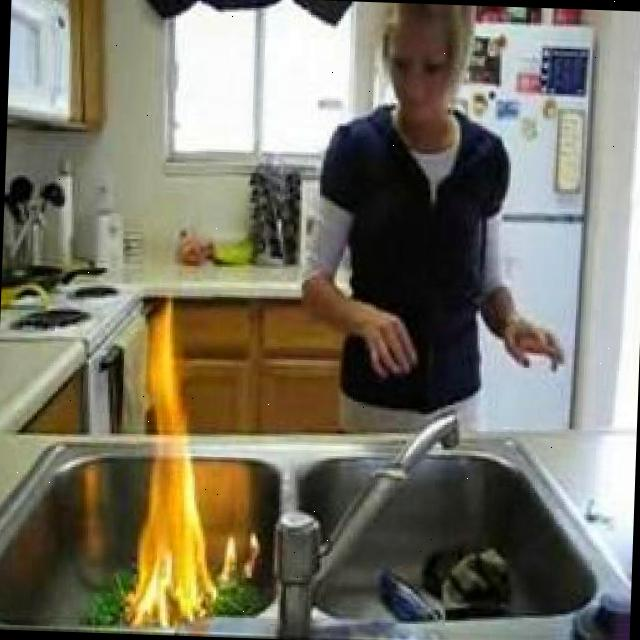fire: (125, 308, 223, 630), (220, 540, 268, 588)
